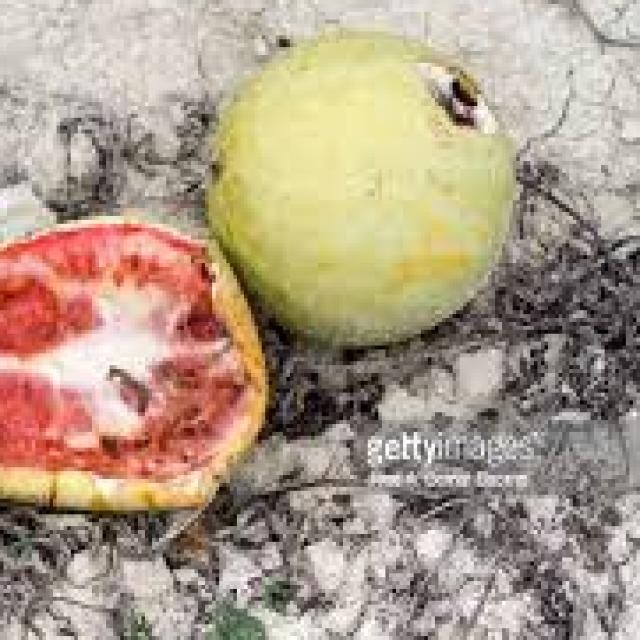inorganic: (201, 27, 536, 387), (0, 212, 285, 532)
